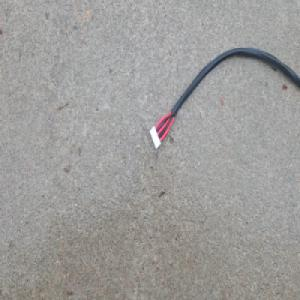Wire: (147, 45, 300, 151)
